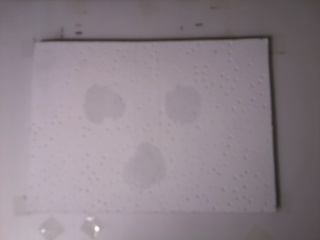Water_detected: (125, 150, 167, 192), (165, 87, 209, 123), (85, 90, 115, 120)
